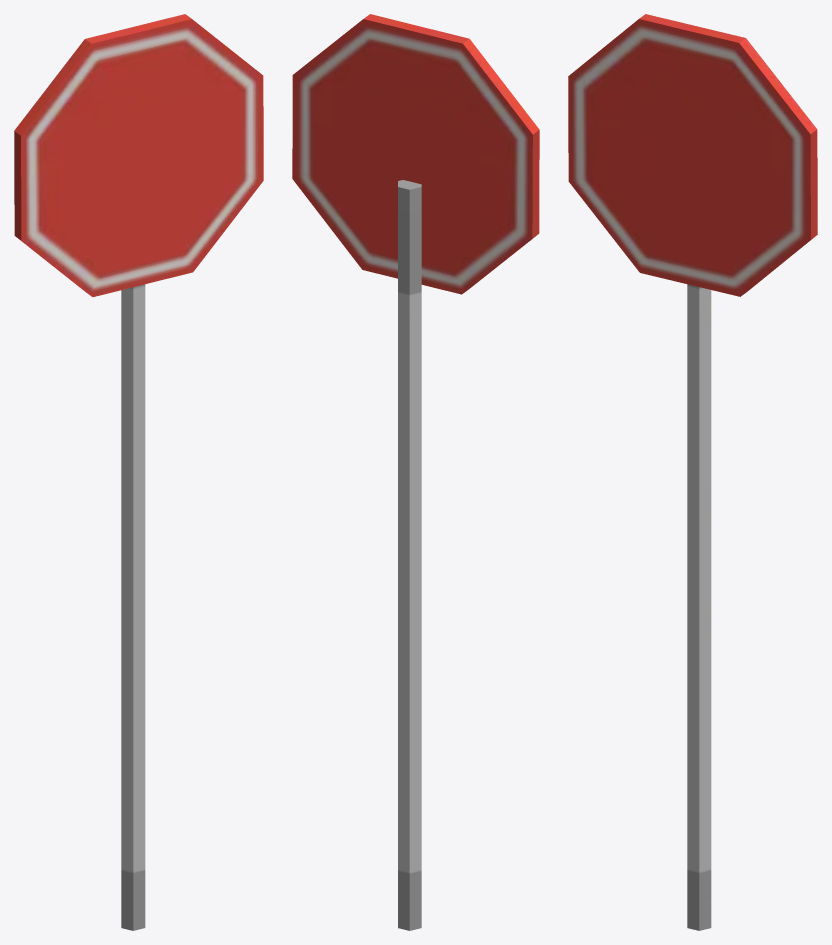
Rendered from city_sign_03.glb.
3 renders of one model, left to right at view 1: azimuth 30°, elevation 25°; view 2: azimuth 150°, elevation 25°; view 3: azimuth 330°, elevation 25°, orthographic.
Visible parts, largest first — view 1: city:polySurface317; view 2: city:polySurface317; view 3: city:polySurface317.
Part boxes in pixels (x1=…): city:polySurface317: x1=14, y1=14, x2=263, y2=930; city:polySurface317: x1=292, y1=14, x2=539, y2=930; city:polySurface317: x1=568, y1=14, x2=817, y2=930.
Bounding box in the file's own units: 0.732 × 2.6 × 0.0807.
1 material, 1 textured.
